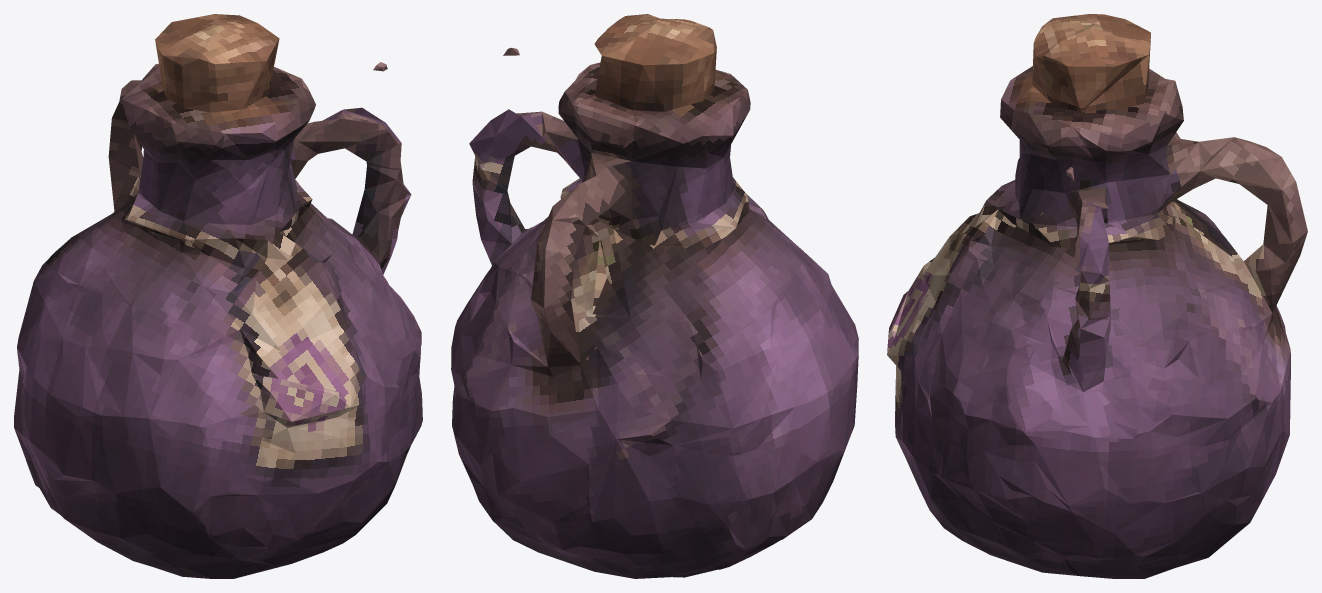
Rendered from jug.glb.
The picture shows the model from 3 angles, left to right: view 1: azimuth 30°, elevation 25°; view 2: azimuth 150°, elevation 25°; view 3: azimuth 270°, elevation 25°; orthographic projection.
Parts seen in each view (by area): view 1: jug; view 2: jug; view 3: jug.
Boxes of the visible parts, x1=… form: jug: x1=14, y1=14, x2=422, y2=578; jug: x1=451, y1=14, x2=858, y2=578; jug: x1=887, y1=14, x2=1307, y2=578.
Bounding box in the file's own units: 0.2416 × 0.3199 × 0.2432.
1 material, 1 textured.
